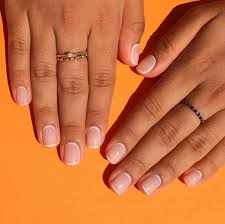nail: (109, 170, 132, 195), (139, 173, 162, 195), (106, 141, 126, 164), (136, 53, 156, 75), (62, 141, 80, 165), (182, 169, 203, 187), (85, 125, 100, 150), (42, 124, 58, 147), (15, 86, 30, 106), (130, 43, 140, 66)
